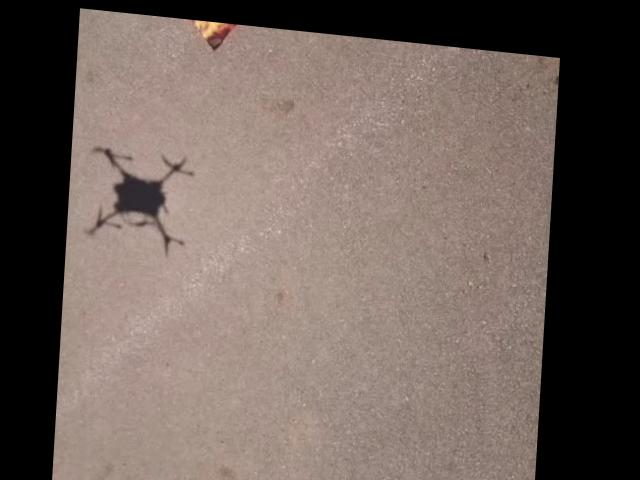fire-poster: (131, 11, 287, 51)
